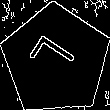L_SE: (28, 33, 84, 86)
